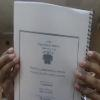notebook: (12, 0, 94, 99)
